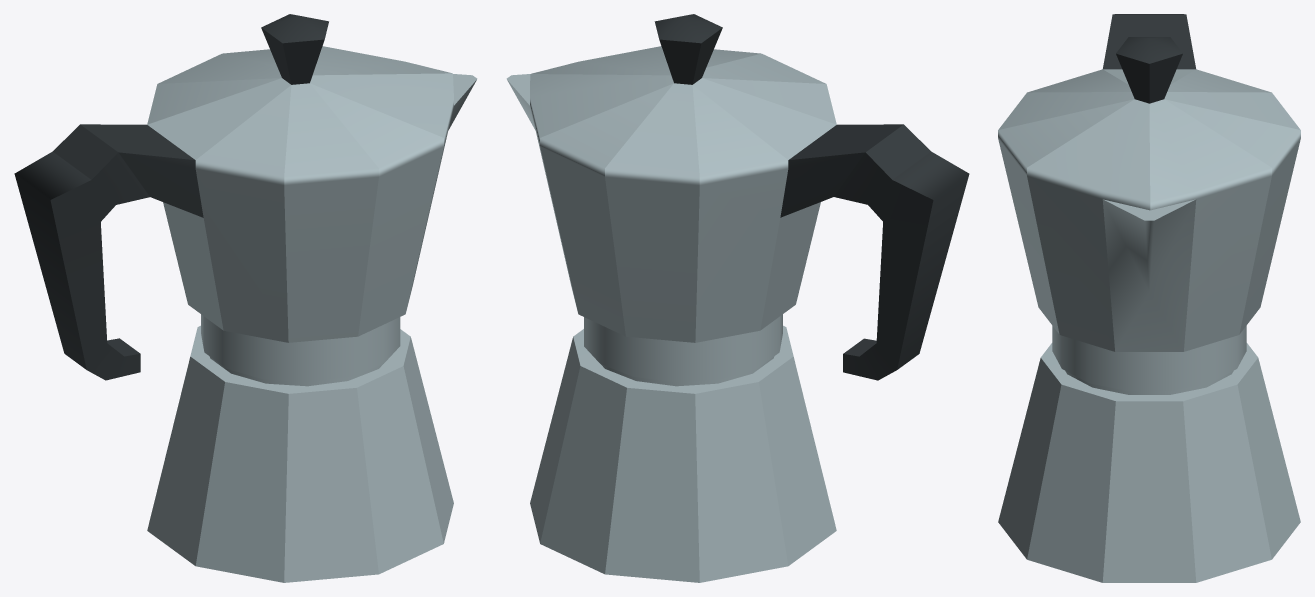
File: PW_mochapot.fbx
The picture shows the model from 3 angles, left to right: view 1: azimuth 30°, elevation 25°; view 2: azimuth 150°, elevation 25°; view 3: azimuth 270°, elevation 25°; orthographic projection. The views are drawn at different scales.
Visible parts, largest first — view 1: mochapot; view 2: mochapot; view 3: mochapot.
Part boxes in pixels (x1=…): mochapot: x1=14, y1=14, x2=477, y2=582; mochapot: x1=506, y1=14, x2=969, y2=582; mochapot: x1=998, y1=14, x2=1300, y2=582.
Size of the model in its own units: 59.15 by 64 by 36.3.
Materials: 1 (1 with a texture image).
